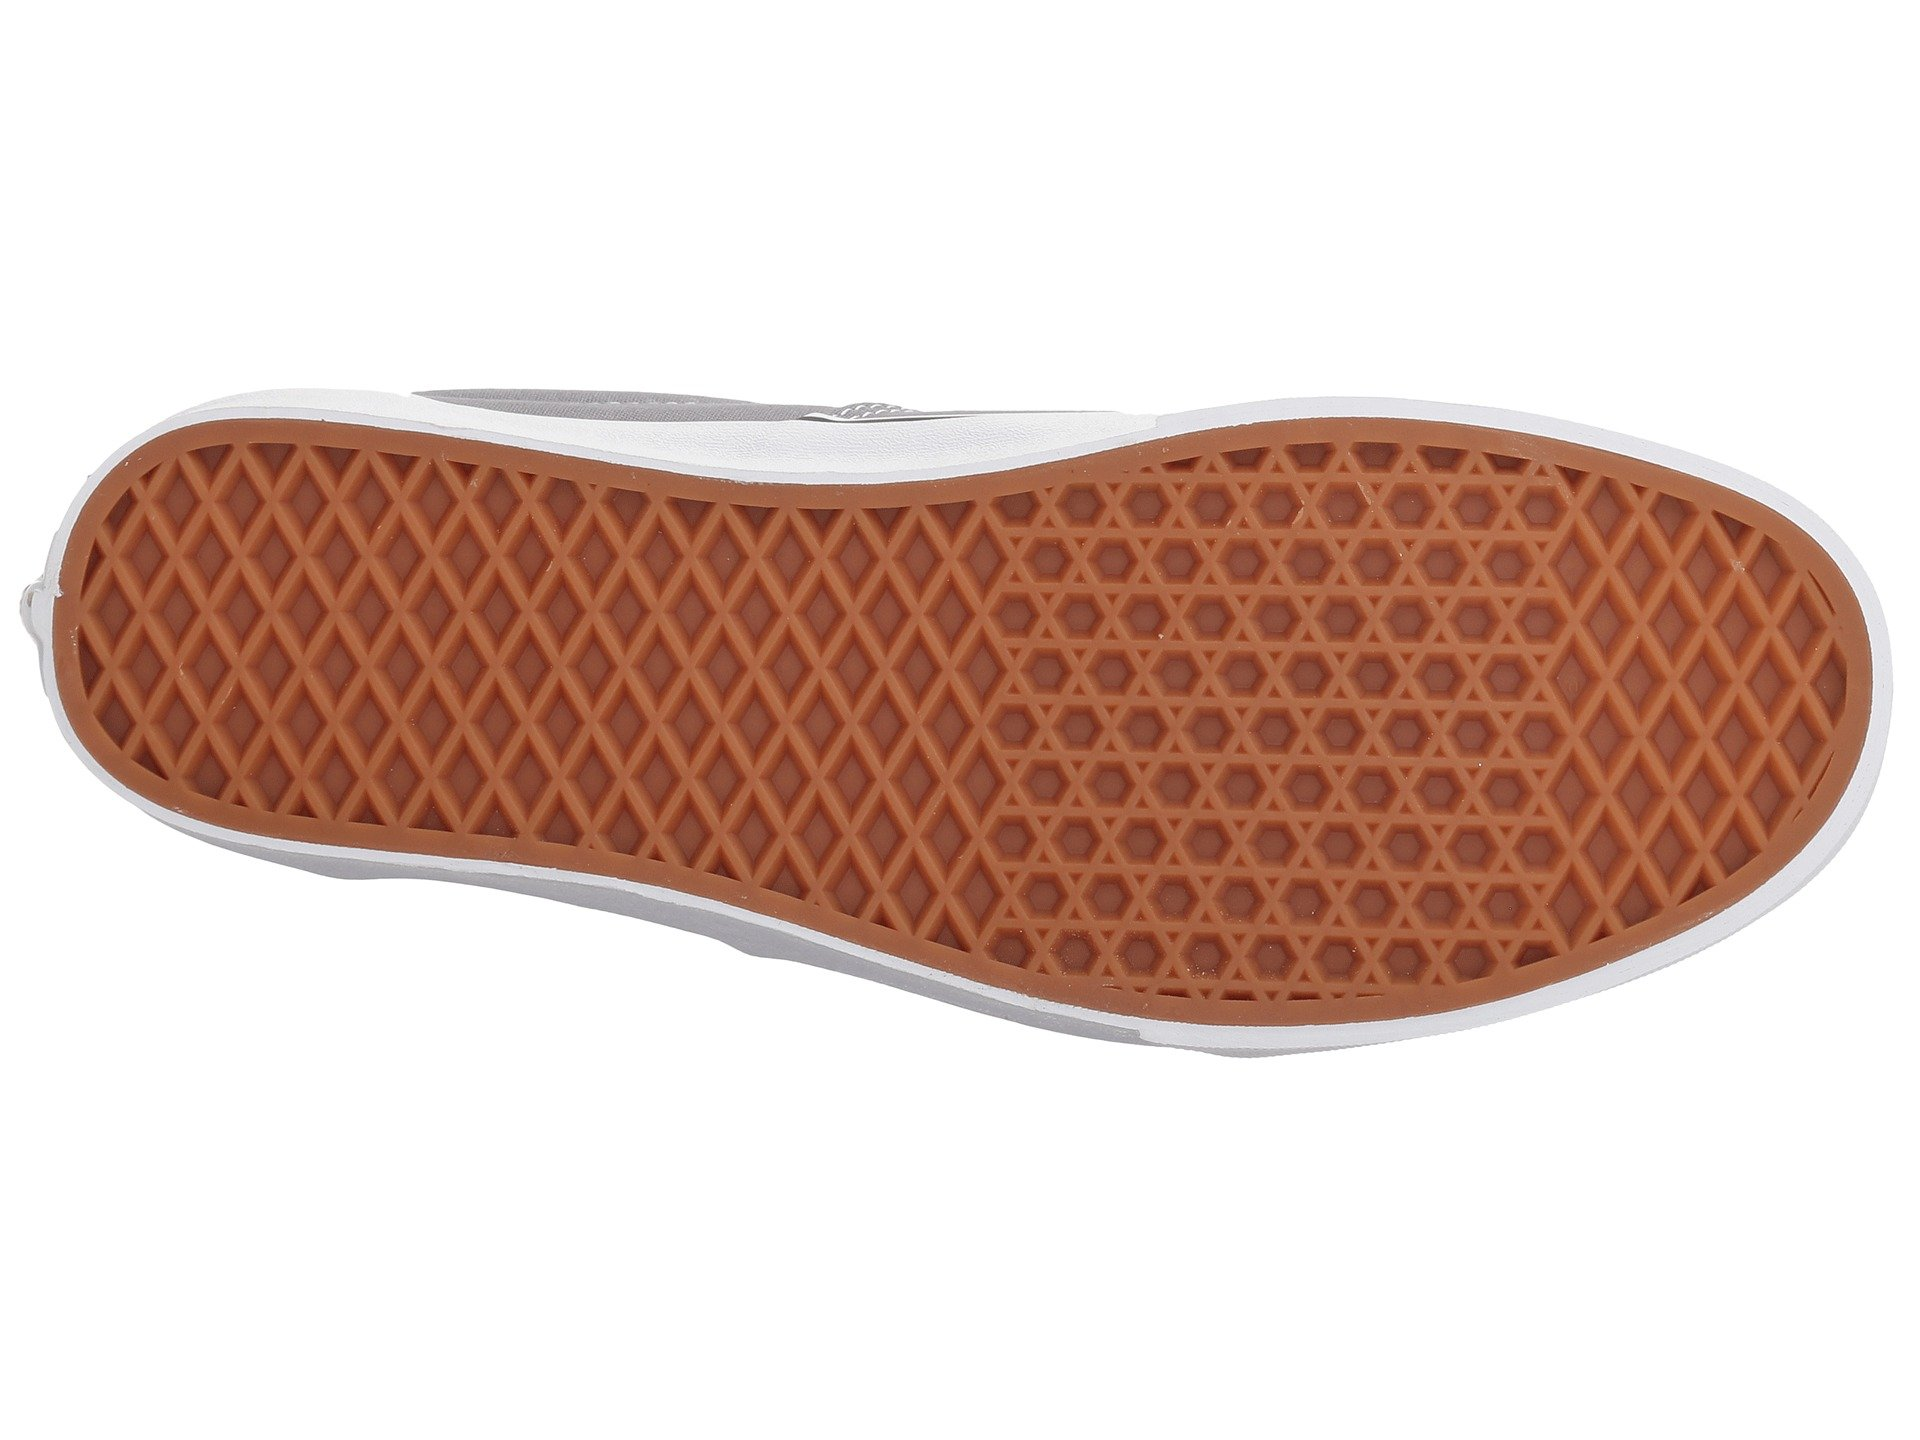polygon: (963, 57, 1547, 623)
triangle: (968, 42, 1547, 641)
